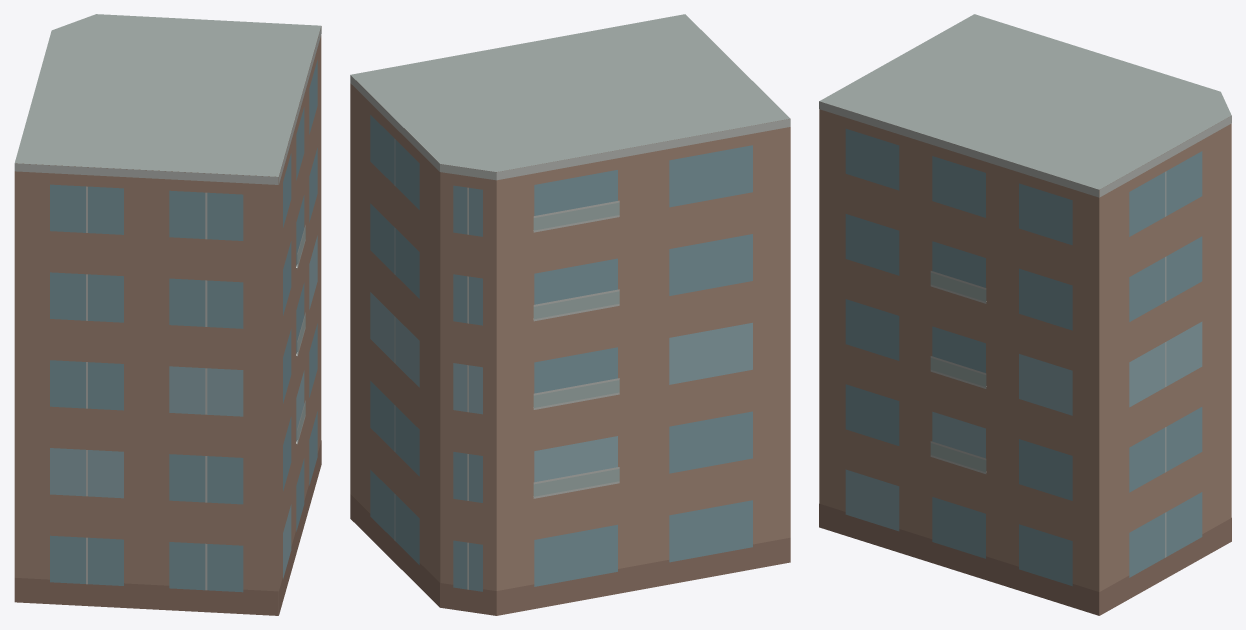
The model's file is survey-upis-32996111.glb.
3 views of the same model, side by side, from view 1: azimuth 30°, elevation 25°; view 2: azimuth 150°, elevation 25°; view 3: azimuth 270°, elevation 25° (orthographic). The views are drawn at different scales.
Parts seen in each view (by area): view 1: survey-upis-32996111.tmp; view 2: survey-upis-32996111.tmp; view 3: survey-upis-32996111.tmp.
Part boxes in pixels (x1=…): survey-upis-32996111.tmp: x1=14, y1=14, x2=321, y2=615; survey-upis-32996111.tmp: x1=350, y1=14, x2=790, y2=615; survey-upis-32996111.tmp: x1=819, y1=14, x2=1231, y2=615.
Bounding box in the file's own units: 11.69 × 13.2 × 11.59.
